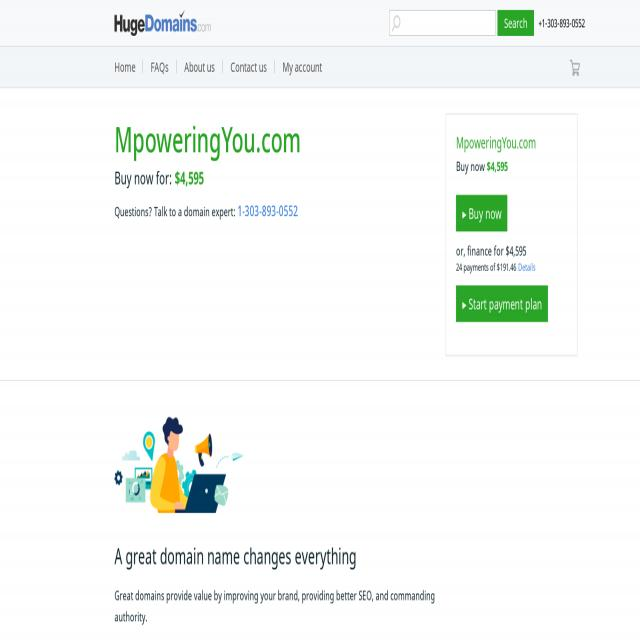button: (114, 417, 243, 513), (456, 286, 548, 322), (115, 10, 211, 36), (457, 195, 508, 232), (274, 54, 330, 80), (223, 54, 275, 80), (177, 54, 223, 80), (498, 10, 534, 36), (143, 54, 177, 80), (115, 54, 144, 80), (570, 60, 580, 77)
field: (389, 10, 496, 36)
